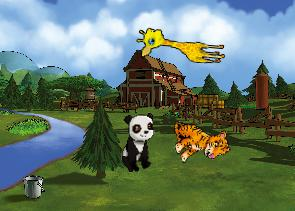giraffe: (135, 26, 227, 64)
panda: (121, 112, 155, 173)
tiger: (168, 111, 231, 168)
